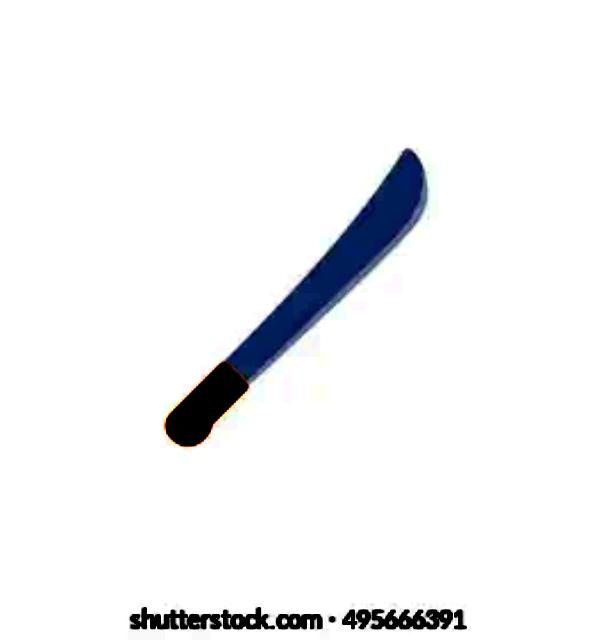long knife: (154, 108, 438, 464)
